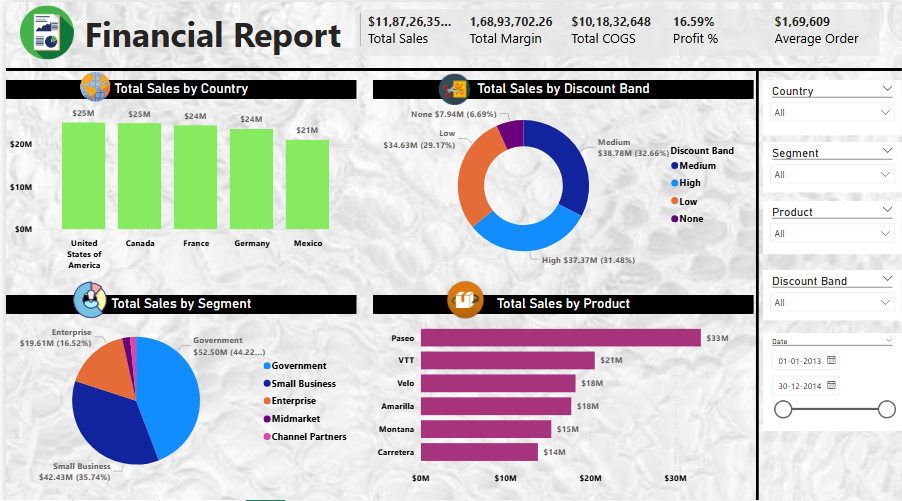

The page's visual inventory and layout, read from the dashboard file:
{"tool":"powerbi","page":{"name":"Report 1","canvas":[1280,720],"ordinal":1},"visuals":[{"type":"textbox","box":[106.8,7.2,393.9,89.5],"z":0},{"type":"image","box":[0,0,116.6,86.8],"z":1000},{"type":"multiRowCard","fields":{"Values":["All Measure.Total sales","All Measure.Total Margin","All Measure.Total COGS","All Measure.Profit %","All Measure.Average Order"]},"box":[500.6,10,748.1,66.8],"z":2000},{"type":"shape","box":[0,21.6,1279.7,150],"z":3000},{"type":"columnChart","fields":{"Y":["All Measure.Total Sales"],"Category":["financials.Country"]},"box":[0,111.1,500.6,279.9],"z":4000},{"type":"slicer","fields":{"Values":["financials.Country"]},"box":[1082.1,111.1,197.7,79.4],"z":5000},{"type":"pieChart","fields":{"Category":["financials.Segment"],"Y":["All Measure.Total Sales"]},"box":[0,418.4,500.6,279.9],"z":6000},{"type":"clusteredBarChart","fields":{"Category":["financials.Product"],"Y":["All Measure.Total Sales"]},"box":[523.7,418.4,543.9,279.9],"z":7000},{"type":"donutChart","fields":{"Category":["financials.Discount Band"],"Y":["All Measure.Total Sales"]},"box":[523.7,111.1,543.9,279.9],"z":8000},{"type":"slicer","fields":{"Values":["financials.Segment"]},"box":[1082.1,200.5,197.7,72.1],"z":9000},{"type":"slicer","fields":{"Values":["financials.Product"]},"box":[1082.1,284.2,197.7,76.5],"z":10000},{"type":"slicer","fields":{"Values":["financials.Discount Band"]},"box":[1082.1,382.3,197.7,72.1],"z":11000},{"type":"shape","box":[1020,96.7,106.8,623.3],"z":12000},{"type":"slicer","fields":{"Values":["Date.Date"]},"box":[1082.1,473.2,197.7,138.5],"z":13000},{"type":"image","box":[89.5,89.5,75,62],"z":14000},{"type":"image","box":[607.4,96.7,66.4,54.8],"z":15000},{"type":"image","box":[89.5,391,63.5,67.8],"z":16000},{"type":"image","box":[621.8,391,70.7,67.8],"z":17000}]}

Visuals, with their boxes in screenshot pixels (x1, y1, x2, y2), scaled from the page's 1280x720 canvas onto the 902x501 screenshot:
textbox: left=75, top=5, right=353, bottom=67
image: left=0, top=0, right=82, bottom=60
multiRowCard - All Measure.Total sales x All Measure.Total Margin: left=353, top=7, right=880, bottom=53
shape: left=0, top=15, right=901, bottom=119
columnChart - All Measure.Total Sales x financials.Country: left=0, top=77, right=353, bottom=272
slicer - financials.Country: left=763, top=77, right=901, bottom=133
pieChart - financials.Segment x All Measure.Total Sales: left=0, top=291, right=353, bottom=486
clusteredBarChart - financials.Product x All Measure.Total Sales: left=369, top=291, right=752, bottom=486
donutChart - financials.Discount Band x All Measure.Total Sales: left=369, top=77, right=752, bottom=272
slicer - financials.Segment: left=763, top=140, right=901, bottom=190
slicer - financials.Product: left=763, top=198, right=901, bottom=251
slicer - financials.Discount Band: left=763, top=266, right=901, bottom=316
shape: left=719, top=67, right=794, bottom=500
slicer - Date.Date: left=763, top=329, right=901, bottom=426
image: left=63, top=62, right=116, bottom=105
image: left=428, top=67, right=475, bottom=105
image: left=63, top=272, right=108, bottom=319
image: left=438, top=272, right=488, bottom=319
